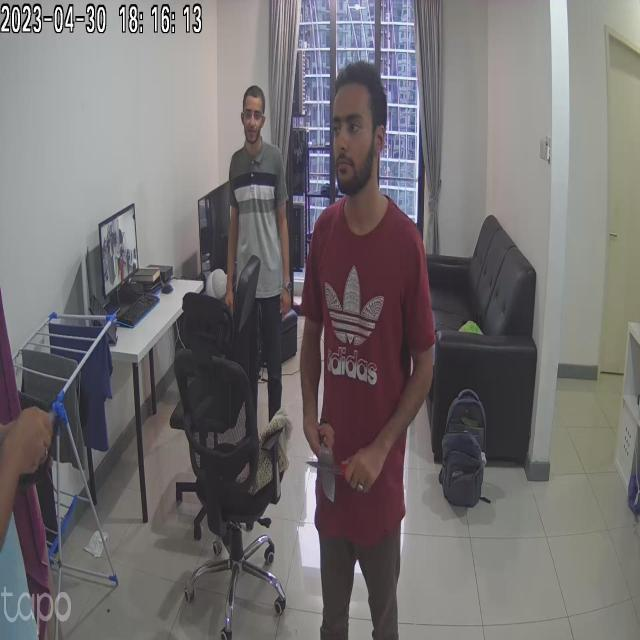Knife: (308, 424, 365, 496)
